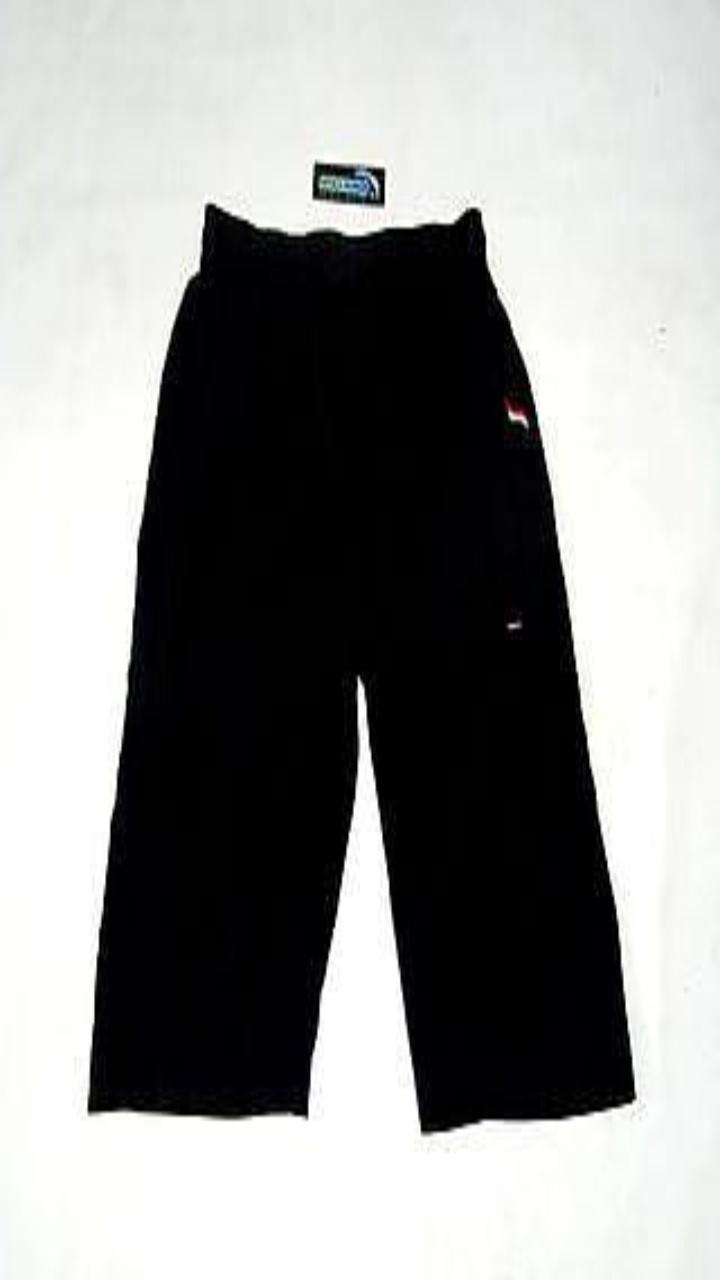Shorts: (88, 203, 634, 1131)
